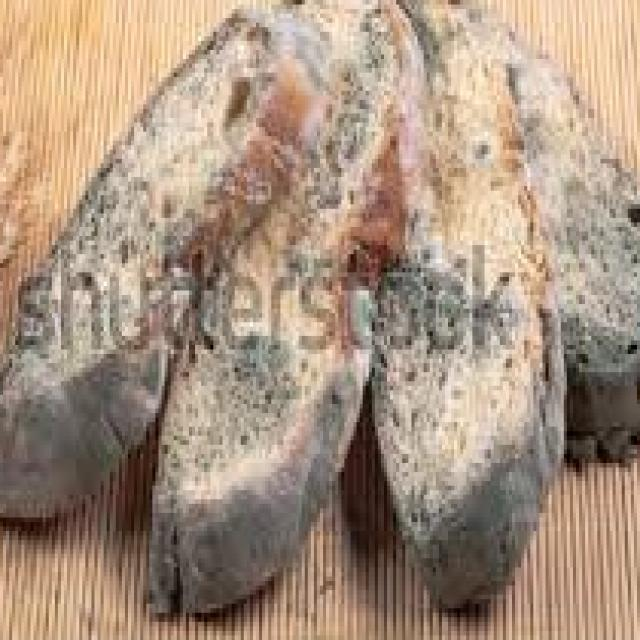inorganic: (6, 78, 625, 606)
